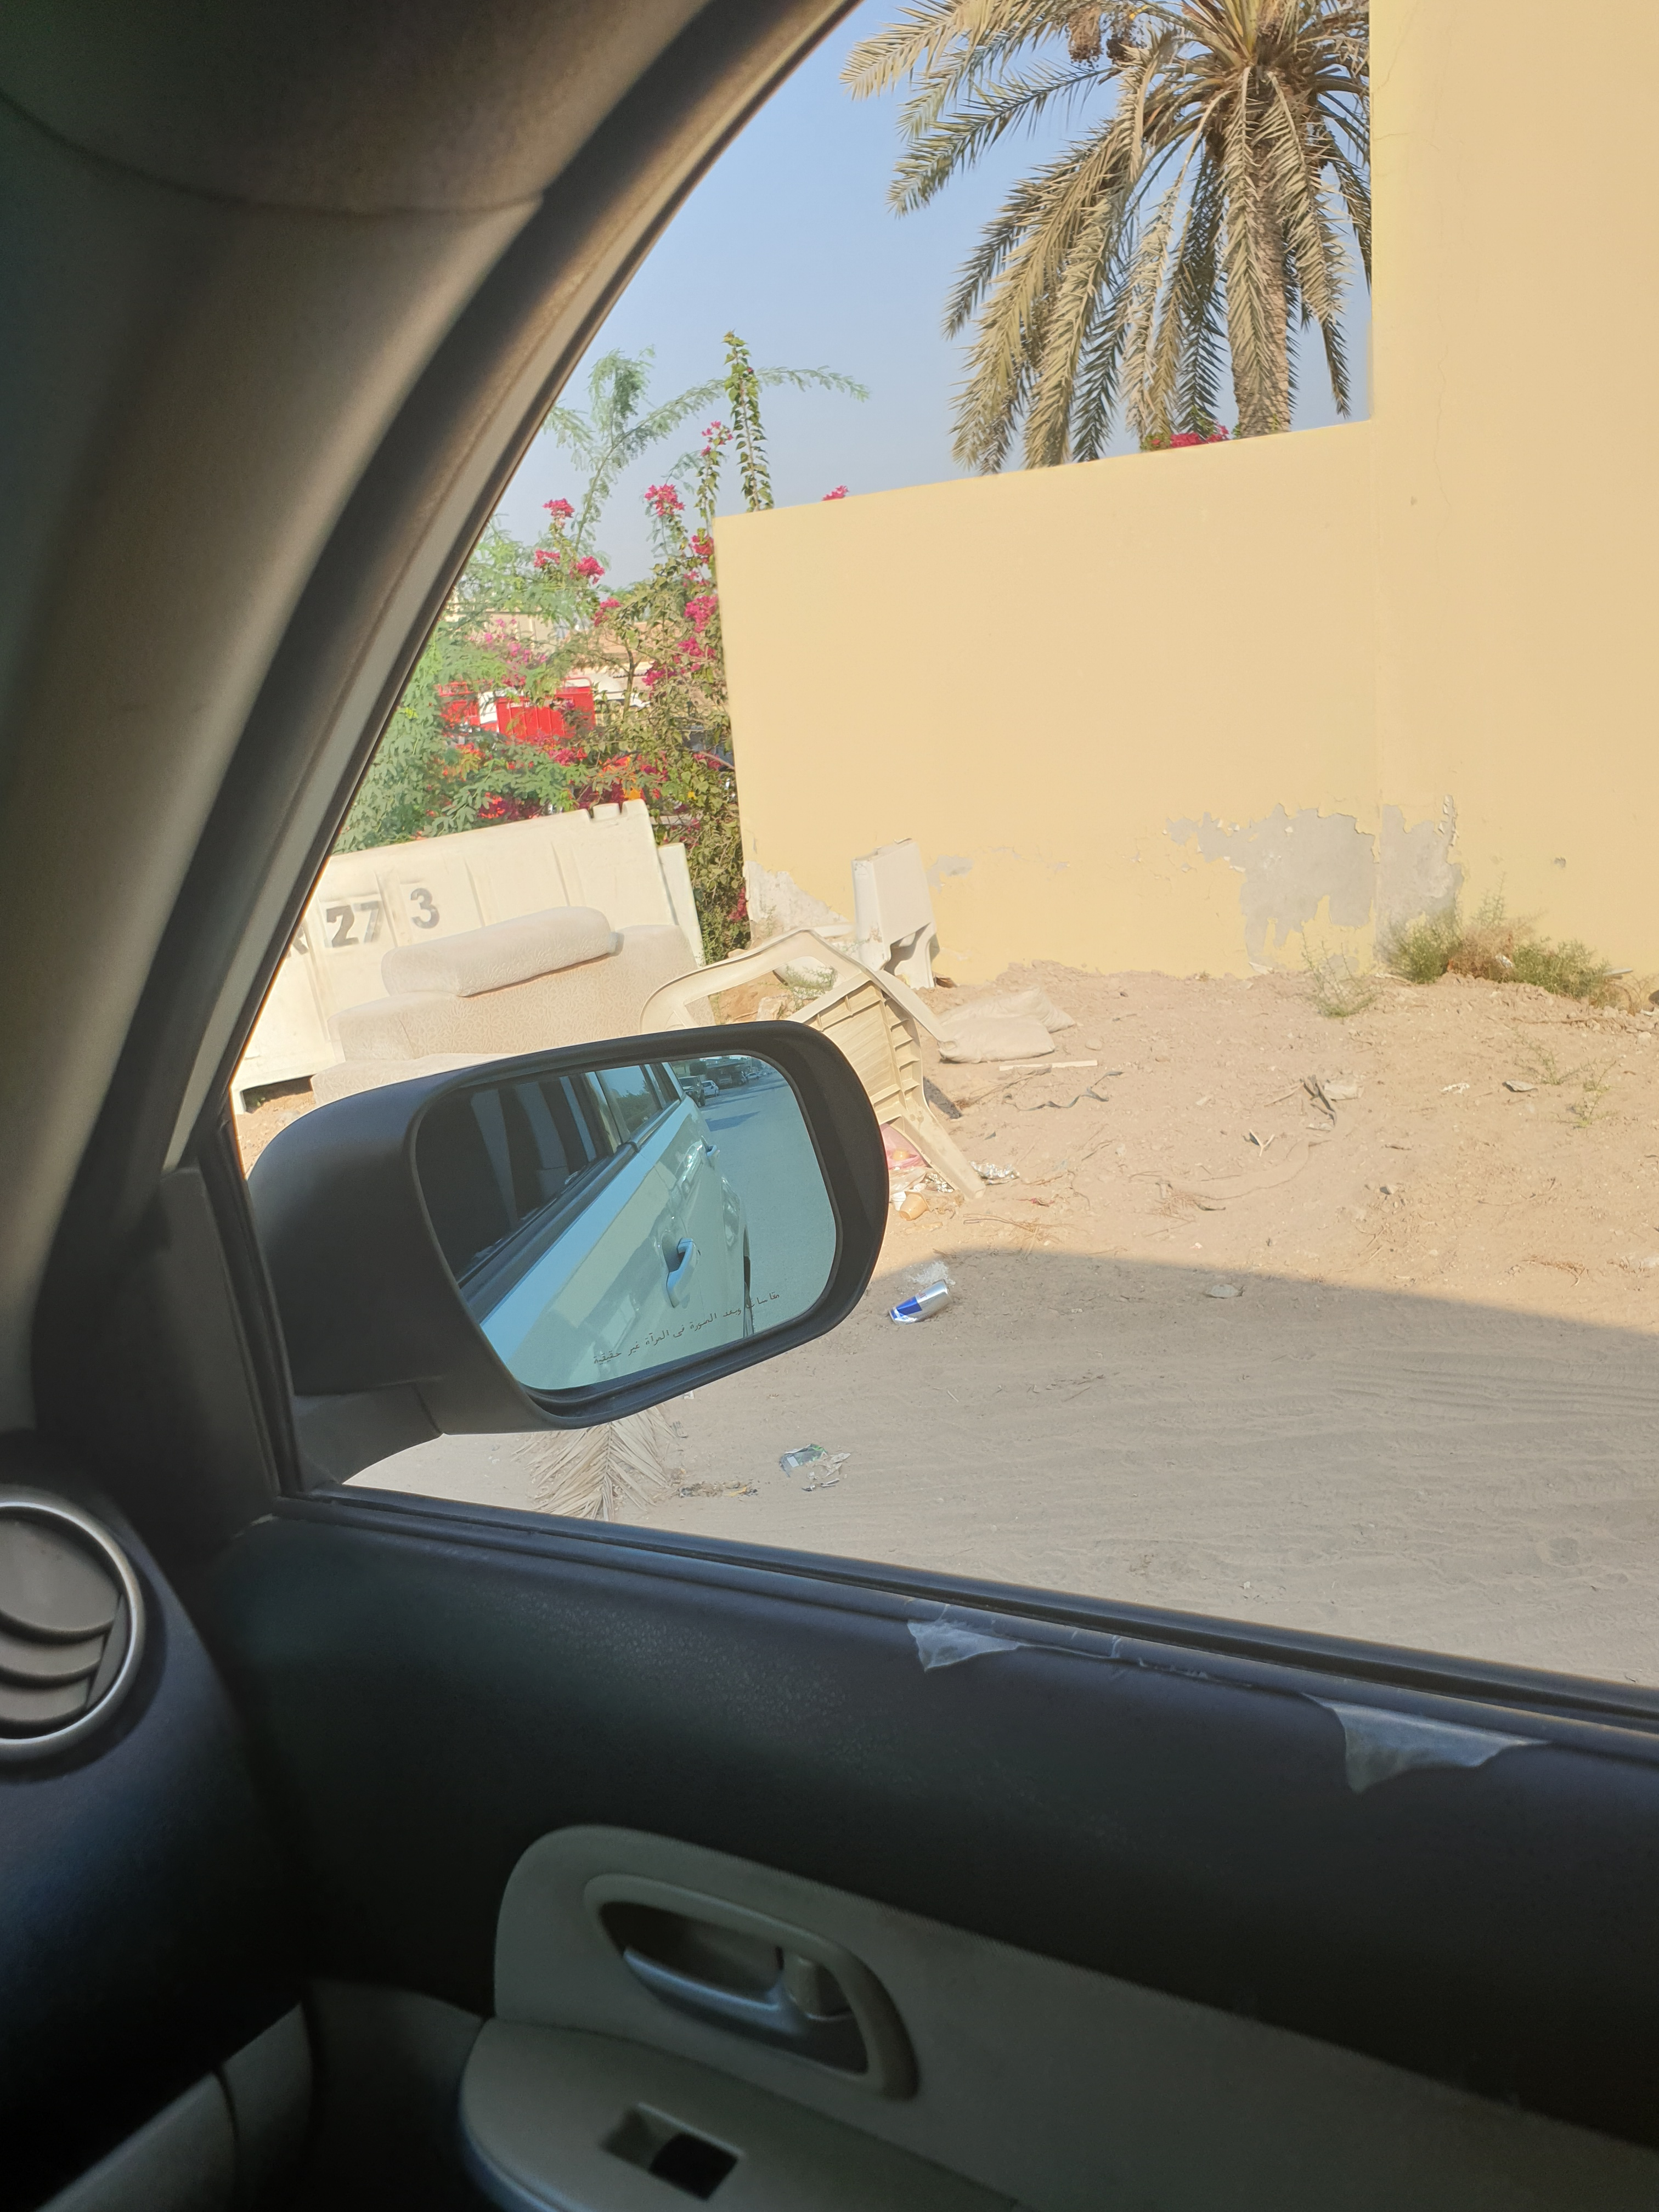uncollected_waste: (758, 873, 1166, 1076)
